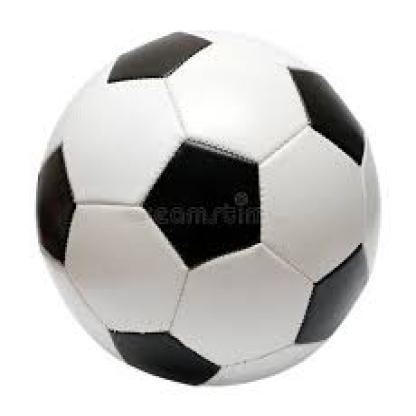ball: (35, 30, 384, 390)
